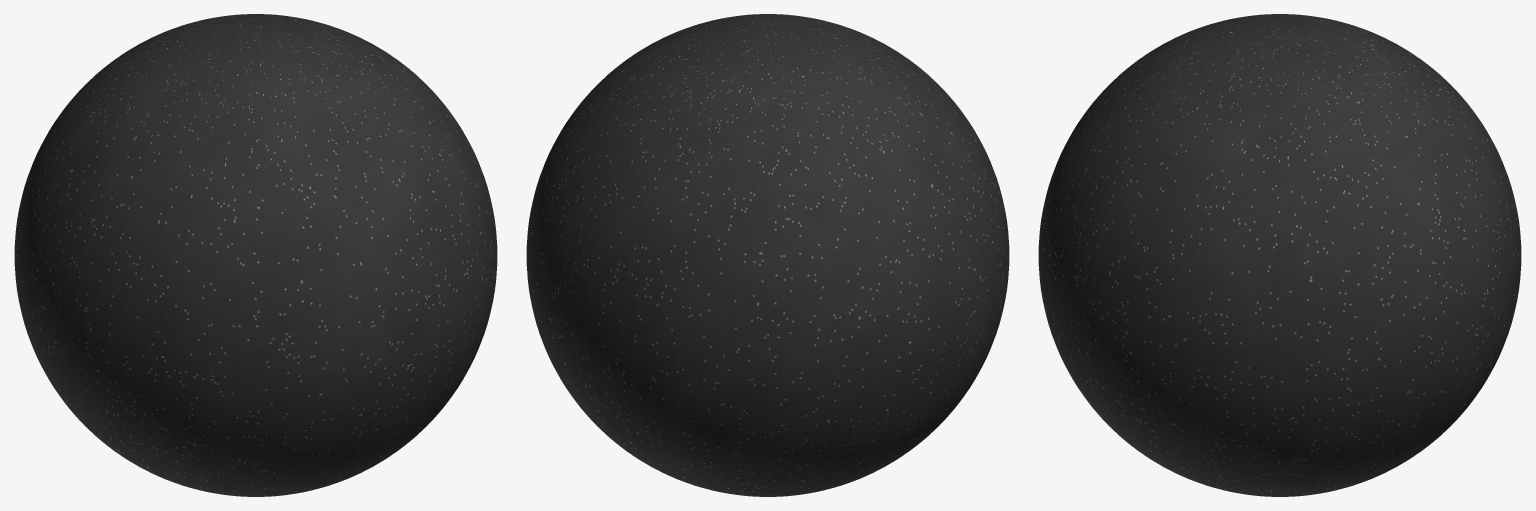
Rendered from orb_brass.glb.
The picture shows the model from 3 angles, left to right: view 1: azimuth 30°, elevation 25°; view 2: azimuth 150°, elevation 25°; view 3: azimuth 270°, elevation 25°; orthographic projection.
Parts seen in each view (by area): view 1: part0; view 2: part0; view 3: part0.
Boxes of the visible parts, bbox=[...] form: part0: bbox=[14, 14, 497, 496]; part0: bbox=[526, 14, 1009, 496]; part0: bbox=[1038, 14, 1521, 496].
Size of the model in its own units: 0.1 by 0.1 by 0.1.
Materials: 1 (1 with a texture image).
